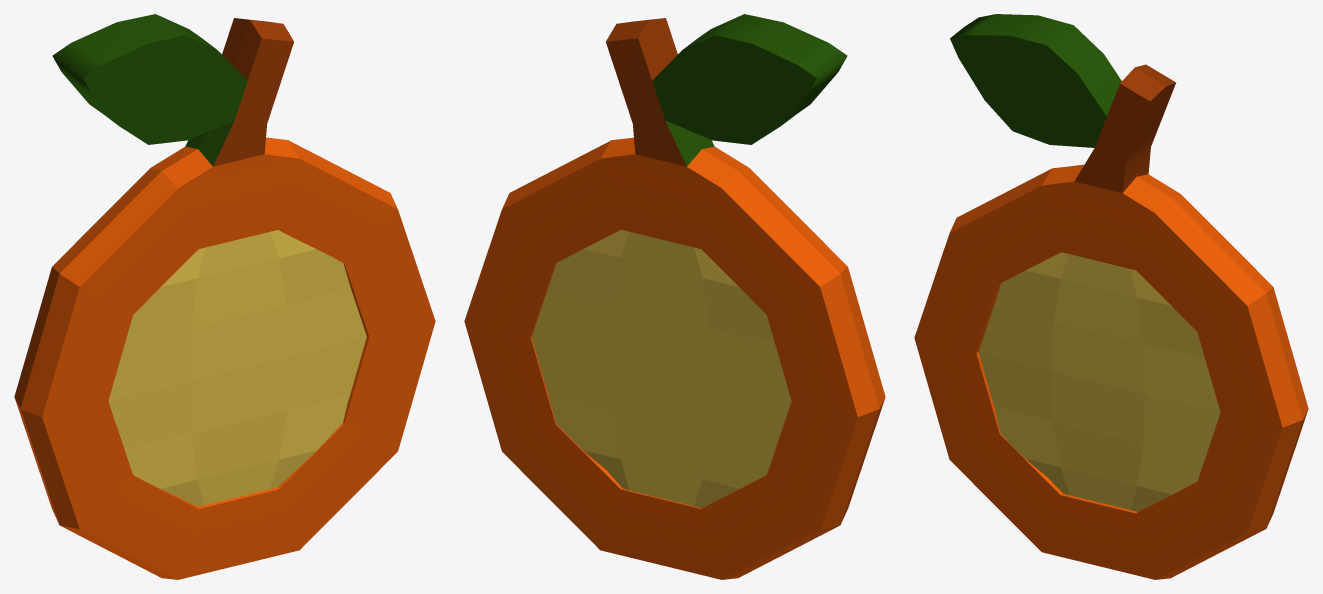
File: Orange.fbx
3 views of the same model, side by side, from view 1: azimuth 30°, elevation 25°; view 2: azimuth 150°, elevation 25°; view 3: azimuth 330°, elevation 25° (orthographic). The views are drawn at different scales.
Parts seen in each view (by area): view 1: pTorus1, pSphere1; view 2: pTorus1, pSphere1; view 3: pTorus1, pSphere1.
Part boxes in pixels (x1,y1,x2,y2): pTorus1: [14, 14, 435, 579]; pSphere1: [108, 230, 366, 506]; pTorus1: [464, 14, 885, 579]; pSphere1: [531, 229, 791, 508]; pTorus1: [914, 14, 1308, 579]; pSphere1: [978, 252, 1220, 511].
Bounding box in the file's own units: 0.7998 × 1.03 × 0.104.
